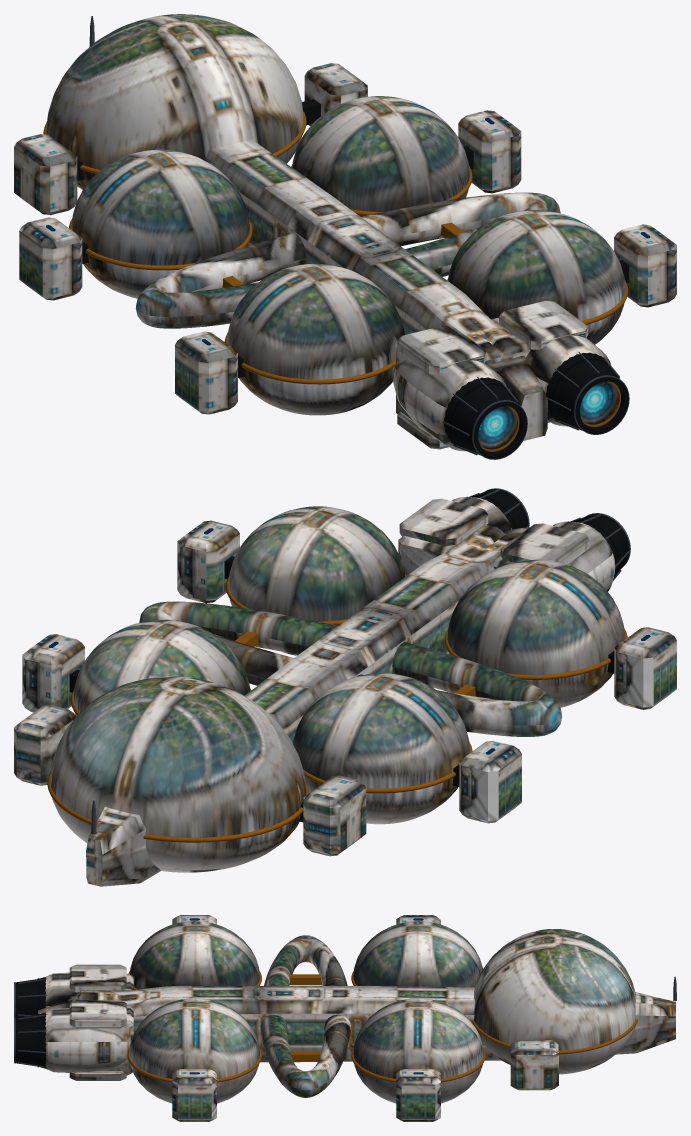
File: colony-ship.obj
3 views of the same model, one above another, from view 1: azimuth 30°, elevation 25°; view 2: azimuth 150°, elevation 25°; view 3: azimuth 270°, elevation 25° (orthographic). The views are drawn at different scales.
Visible parts, largest first — view 1: habitat.forward_|_glazed_dome_and_ventral_bowl, habitat.port.2_|_glazed_dome_and_ventral_bowl, spine_|_inhabited_central_keel, habitat.port.1_|_glazed_dome_and_ventral_bowl, habitat.starboard.1_|_glazed_dome_and_ventral_bowl, habitat.starboard.2_|_glazed_dome_and_ventral_bowl, habitat.ring_|_glazed_horizontal_habitat_torus, cargo_|_forward_life_support, cargo.port.1_|_external_life_support, cargo.port.2_|_external_life_support, enginecase.port_|_pressure_casing, cargo.starboard.1_|_external_life_support (+12 smaller); view 2: habitat.forward_|_glazed_dome_and_ventral_bowl, spine_|_inhabited_central_keel, habitat.port.1_|_glazed_dome_and_ventral_bowl, habitat.port.2_|_glazed_dome_and_ventral_bowl, habitat.starboard.2_|_glazed_dome_and_ventral_bowl, habitat.ring_|_glazed_horizontal_habitat_torus, habitat.starboard.1_|_glazed_dome_and_ventral_bowl, cargo_|_forward_life_support, cargo.port.1_|_external_life_support, cargo.port.2_|_external_life_support, cargo.starboard.2_|_external_life_support, cargo.starboard.1_|_external_life_support (+10 smaller); view 3: habitat.forward_|_glazed_dome_and_ventral_bowl, spine_|_inhabited_central_keel, habitat.starboard.1_|_glazed_dome_and_ventral_bowl, habitat.starboard.2_|_glazed_dome_and_ventral_bowl, habitat.port.2_|_glazed_dome_and_ventral_bowl, habitat.port.1_|_glazed_dome_and_ventral_bowl, habitat.ring_|_glazed_horizontal_habitat_torus, enginecase.starboard_|_pressure_casing, cargo_|_forward_life_support, cargo.starboard.1_|_external_life_support, cargo.starboard.2_|_external_life_support, armor.engine.starboard_|_upper_cowl (+11 smaller).
Boxes of the visible parts, box(x1,y1,x2,y2) form: habitat.forward_|_glazed_dome_and_ventral_bowl: box(46, 14, 303, 189); habitat.port.2_|_glazed_dome_and_ventral_bowl: box(227, 263, 404, 415); spine_|_inhabited_central_keel: box(204, 139, 547, 440); habitat.port.1_|_glazed_dome_and_ventral_bowl: box(71, 149, 249, 298); habitat.starboard.1_|_glazed_dome_and_ventral_bowl: box(292, 96, 469, 216); habitat.starboard.2_|_glazed_dome_and_ventral_bowl: box(448, 210, 625, 344); habitat.ring_|_glazed_horizontal_habitat_torus: box(135, 192, 560, 328); cargo_|_forward_life_support: box(14, 63, 367, 215); cargo.port.1_|_external_life_support: box(19, 217, 82, 300); cargo.port.2_|_external_life_support: box(175, 331, 237, 414); enginecase.port_|_pressure_casing: box(393, 360, 509, 451); cargo.starboard.1_|_external_life_support: box(458, 110, 521, 193); habitat.forward_|_glazed_dome_and_ventral_bowl: box(50, 676, 306, 872); spine_|_inhabited_central_keel: box(86, 527, 528, 886); habitat.port.1_|_glazed_dome_and_ventral_bowl: box(293, 673, 469, 824); habitat.port.2_|_glazed_dome_and_ventral_bowl: box(447, 559, 624, 707); habitat.starboard.2_|_glazed_dome_and_ventral_bowl: box(228, 506, 405, 655); habitat.ring_|_glazed_horizontal_habitat_torus: box(139, 601, 562, 736); habitat.starboard.1_|_glazed_dome_and_ventral_bowl: box(73, 620, 250, 716); cargo_|_forward_life_support: box(14, 705, 366, 856); cargo.port.1_|_external_life_support: box(459, 740, 521, 823); cargo.port.2_|_external_life_support: box(614, 627, 676, 709); cargo.starboard.2_|_external_life_support: box(177, 520, 239, 603); cargo.starboard.1_|_external_life_support: box(22, 634, 84, 712); habitat.forward_|_glazed_dome_and_ventral_bowl: box(473, 929, 636, 1074); spine_|_inhabited_central_keel: box(38, 986, 675, 1062); habitat.starboard.1_|_glazed_dome_and_ventral_bowl: box(353, 998, 483, 1103); habitat.starboard.2_|_glazed_dome_and_ventral_bowl: box(129, 998, 259, 1103); habitat.port.2_|_glazed_dome_and_ventral_bowl: box(129, 921, 259, 989); habitat.port.1_|_glazed_dome_and_ventral_bowl: box(353, 921, 482, 987); habitat.ring_|_glazed_horizontal_habitat_torus: box(260, 935, 350, 1097); enginecase.starboard_|_pressure_casing: box(45, 1008, 130, 1072); cargo_|_forward_life_support: box(510, 1040, 558, 1090); cargo.starboard.1_|_external_life_support: box(396, 1069, 440, 1121); cargo.starboard.2_|_external_life_support: box(172, 1069, 216, 1121); armor.engine.starboard_|_upper_cowl: box(69, 1000, 126, 1028).
Bounding box in the file's own units: 11.53 × 3.88 × 19.25.
7 materials, 2 textured.
